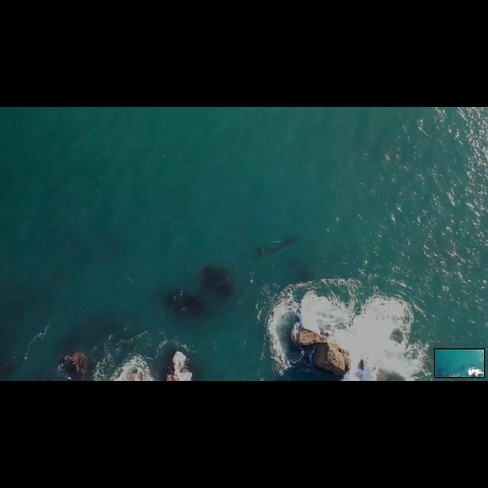hump: (246, 233, 306, 259)
